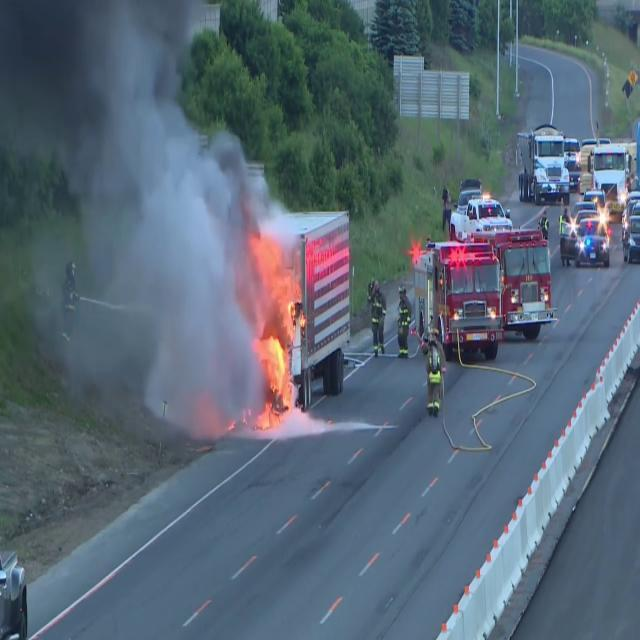Fire: (253, 240, 303, 425)
Smoke: (1, 0, 266, 446)
